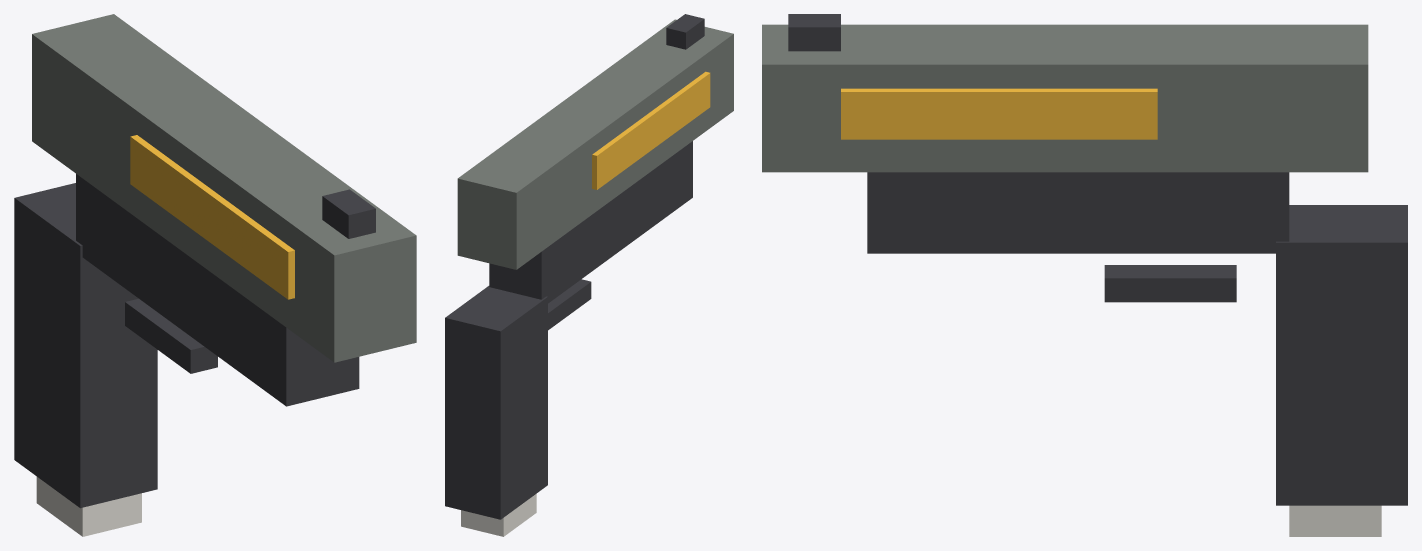
File: weapon_F1_Magnum.glb
The picture shows the model from 3 angles, left to right: view 1: azimuth 30°, elevation 25°; view 2: azimuth 150°, elevation 25°; view 3: azimuth 270°, elevation 25°; orthographic projection. The views are drawn at different scales.
Visible parts, largest first — view 1: Body, Mag; view 2: Body, Mag; view 3: Body, Mag.
Part boxes in pixels (x1=…): Body: x1=14, y1=14, x2=416, y2=508; Mag: x1=36, y1=476, x2=141, y2=536; Body: x1=445, y1=14, x2=733, y2=519; Mag: x1=461, y1=494, x2=536, y2=536; Body: x1=762, y1=14, x2=1407, y2=505; Mag: x1=1289, y1=505, x2=1381, y2=536.
Size of the model in its own units: 0.042 by 0.21 by 0.245.
